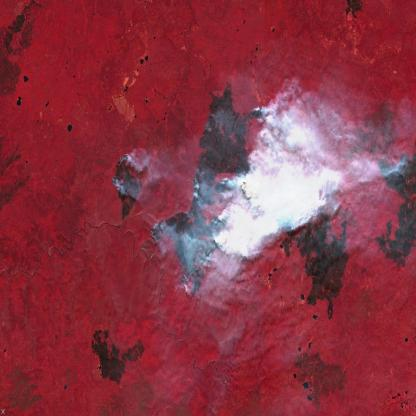fire: (110, 95, 275, 292)
